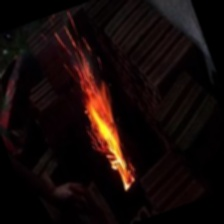fire: (38, 15, 162, 211)
